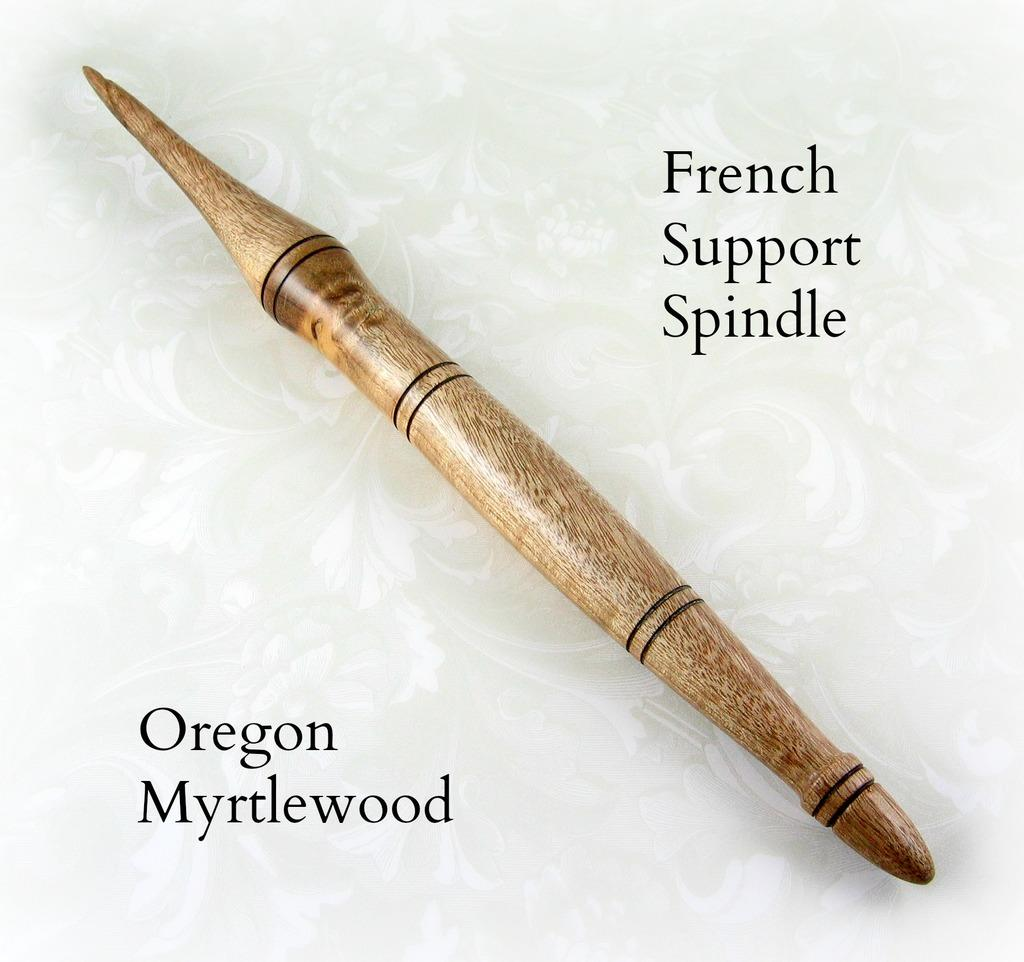pen: (75, 56, 943, 900)
